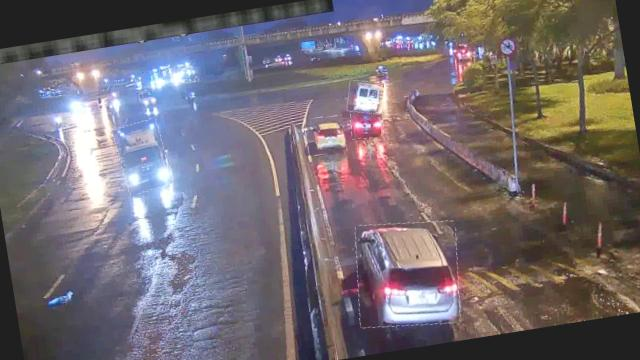Bus: (344, 77, 386, 117)
Car: (348, 212, 468, 334), (304, 113, 348, 156), (349, 106, 386, 140)
Truck: (114, 118, 172, 195)
